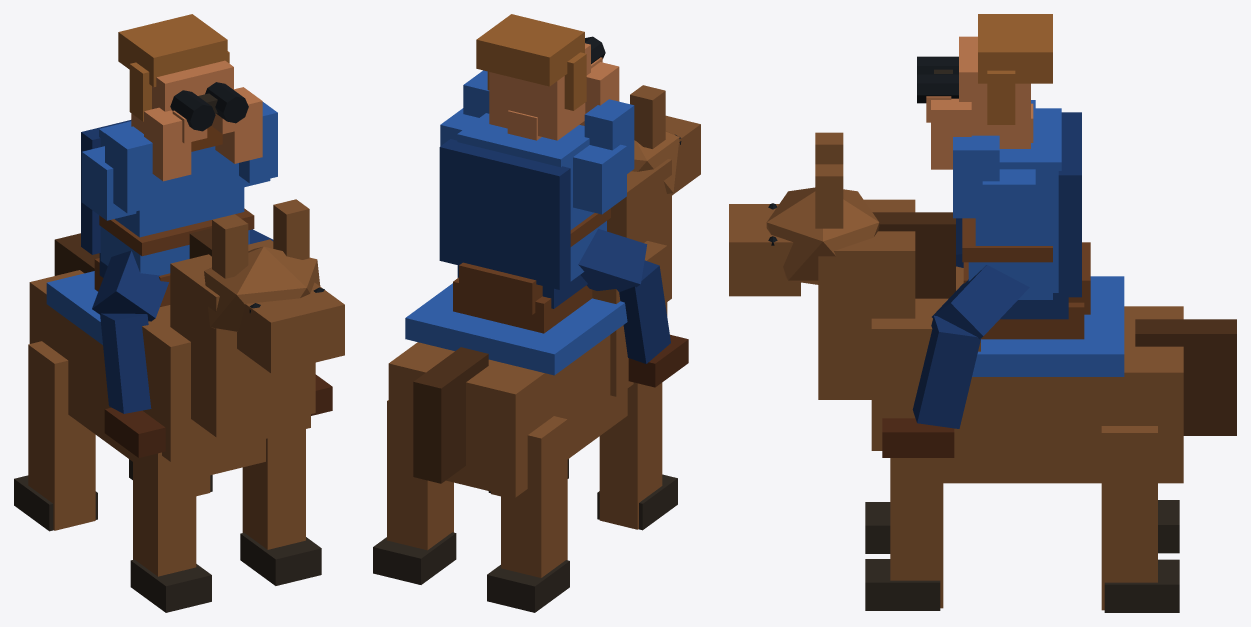
File: cherusker_reiter.glb
3 renders of one model, left to right at view 1: azimuth 30°, elevation 25°; view 2: azimuth 150°, elevation 25°; view 3: azimuth 270°, elevation 25°, orthographic. The views are drawn at different scales.
Visible parts, largest first — view 1: Cavallo_Collo, Cavallo_Zampa_PSX, Cavallo_Corpo, Cavallo_Garrese, Cavallo_Zampa_ASX, Cavallo_Muso, Cavallo_Zampa_ADX, Cavaliere_Tunica, Cavallo_Testa, Cavaliere_Capelli, Cavaliere_Polpaccio_SX, Cavaliere_Braccio_SX (+23 smaller); view 2: Cavallo_Corpo, Cavaliere_Mantello, Coperta_Sella, Cavallo_Zampa_PSX, Cavallo_Zampa_ASX, Cavallo_Coda, Cavaliere_Capelli, Cavallo_Zampa_PDX, Cavallo_Collo, Cavaliere_Viso, Cavaliere_Tunica, Cavaliere_Polpaccio_SX (+21 smaller); view 3: Cavallo_Corpo, Cavallo_Collo, Cavallo_Zampa_PDX, Coperta_Sella, Cavallo_Garrese, Cavallo_Coda, Cavallo_Zampa_ADX, Cavallo_Testa, Cavaliere_Tunica, Cavaliere_Polpaccio_DX, Cavallo_Muso, Cavaliere_Capelli (+22 smaller).
Part boxes in pixels (bbox=[...]): Cavallo_Collo: bbox=[170, 239, 315, 437]; Cavallo_Zampa_PSX: bbox=[28, 341, 95, 530]; Cavallo_Corpo: bbox=[29, 270, 265, 478]; Cavallo_Garrese: bbox=[142, 305, 310, 461]; Cavallo_Zampa_ASX: bbox=[133, 452, 196, 576]; Cavallo_Muso: bbox=[237, 282, 344, 373]; Cavallo_Zampa_ADX: bbox=[242, 429, 305, 549]; Cavaliere_Tunica: bbox=[99, 121, 244, 237]; Cavallo_Testa: bbox=[204, 246, 320, 333]; Cavaliere_Capelli: bbox=[118, 14, 227, 86]; Cavaliere_Polpaccio_SX: bbox=[100, 313, 151, 413]; Cavaliere_Braccio_SX: bbox=[105, 126, 155, 213]; Cavallo_Corpo: bbox=[388, 335, 627, 497]; Cavaliere_Mantello: bbox=[439, 139, 570, 289]; Coperta_Sella: bbox=[405, 283, 627, 375]; Cavallo_Zampa_PSX: bbox=[501, 416, 567, 577]; Cavallo_Zampa_ASX: bbox=[599, 382, 662, 529]; Cavallo_Coda: bbox=[413, 347, 488, 483]; Cavaliere_Capelli: bbox=[476, 14, 584, 86]; Cavallo_Zampa_PDX: bbox=[387, 400, 453, 550]; Cavallo_Collo: bbox=[607, 159, 671, 301]; Cavaliere_Viso: bbox=[489, 43, 590, 140]; Cavaliere_Tunica: bbox=[457, 113, 594, 229]; Cavaliere_Polpaccio_SX: bbox=[619, 260, 670, 363]; Cavallo_Corpo: bbox=[943, 306, 1183, 483]; Cavallo_Collo: bbox=[818, 199, 915, 399]; Cavallo_Zampa_PDX: bbox=[1101, 426, 1157, 610]; Coperta_Sella: bbox=[972, 276, 1124, 376]; Cavallo_Garrese: bbox=[871, 266, 980, 450]; Cavallo_Coda: bbox=[1135, 319, 1236, 435]; Cavallo_Zampa_ADX: bbox=[890, 458, 943, 608]; Cavallo_Testa: bbox=[766, 187, 879, 284]; Cavaliere_Tunica: bbox=[975, 108, 1061, 292]; Cavaliere_Polpaccio_DX: bbox=[912, 315, 981, 428]; Cavallo_Muso: bbox=[729, 204, 800, 296]; Cavaliere_Capelli: bbox=[978, 14, 1052, 83].
Size of the model in its own units: 1.52 by 3.79 by 3.25.
